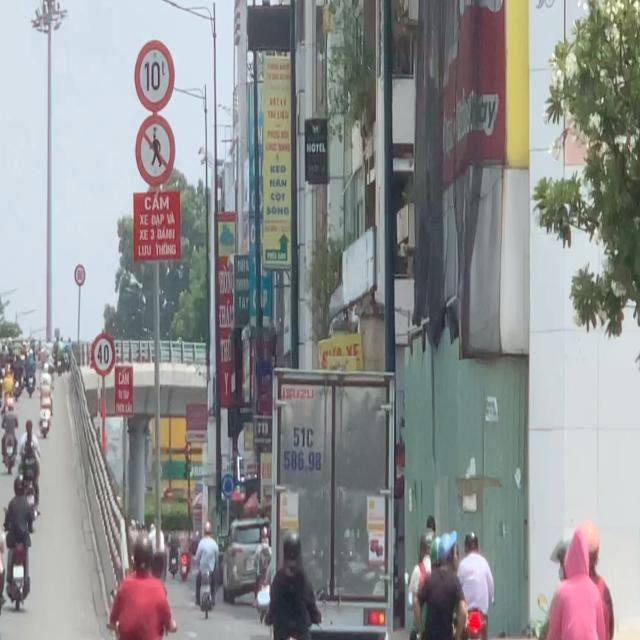Cam con lai: (134, 114, 176, 186)
Toc do toi da: (91, 332, 115, 376), (74, 264, 88, 288)
Trong tai toi da: (134, 37, 177, 112)
